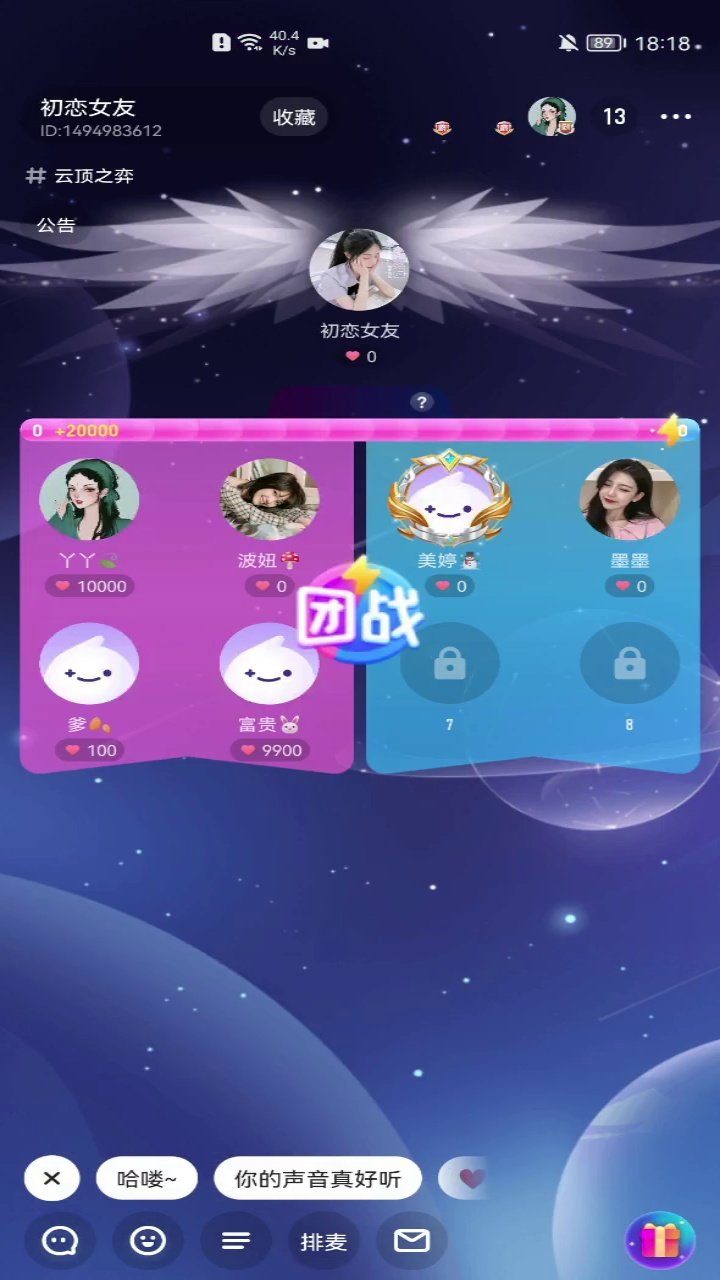avatar: (384, 449, 517, 549), (215, 617, 331, 708), (36, 618, 144, 708)
